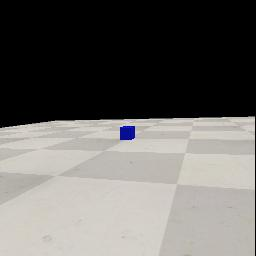box: (120, 126, 135, 140)
